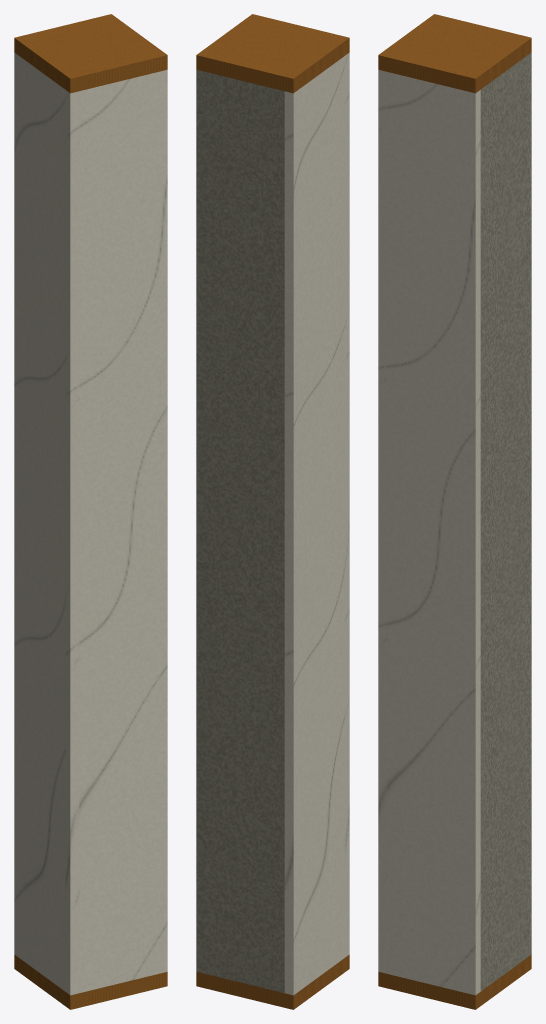
3 renders of one model, left to right at view 1: azimuth 30°, elevation 25°; view 2: azimuth 150°, elevation 25°; view 3: azimuth 330°, elevation 25°, orthographic.
Parts seen in each view (by area): view 1: LOD2__Mitered marble corner facing, LOD2__Mitered marble corner facing.001, LOD2__Corner bronze seat.001, LOD2__Corner bronze seat; view 2: LOD2__Corner bearing return, LOD2__Mitered marble corner facing.001, LOD2__Corner bronze seat.001, LOD2__Mitered marble corner facing, LOD2__Corner bronze seat; view 3: LOD2__Mitered marble corner facing, LOD2__Corner bearing return, LOD2__Corner bronze seat.001, LOD2__Mitered marble corner facing.001, LOD2__Corner bronze seat.
Boxes of the visible parts, x1,y1,x2,y2 form: LOD2__Mitered marble corner facing: (65, 69, 167, 995); LOD2__Mitered marble corner facing.001: (14, 52, 79, 994); LOD2__Corner bronze seat.001: (14, 14, 167, 93); LOD2__Corner bronze seat: (14, 954, 167, 1009); LOD2__Corner bearing return: (196, 69, 284, 992); LOD2__Mitered marble corner facing.001: (284, 53, 349, 995); LOD2__Corner bronze seat.001: (196, 14, 349, 93); LOD2__Mitered marble corner facing: (344, 52, 349, 957); LOD2__Corner bronze seat: (196, 954, 349, 1009); LOD2__Mitered marble corner facing: (378, 70, 480, 995); LOD2__Corner bearing return: (480, 52, 531, 991); LOD2__Corner bronze seat.001: (378, 14, 531, 93); LOD2__Mitered marble corner facing.001: (378, 70, 386, 973); LOD2__Corner bronze seat: (378, 954, 531, 1009).
Size of the model in its own units: 0.35 by 3.2 by 0.35.
3 materials, 3 textured.
